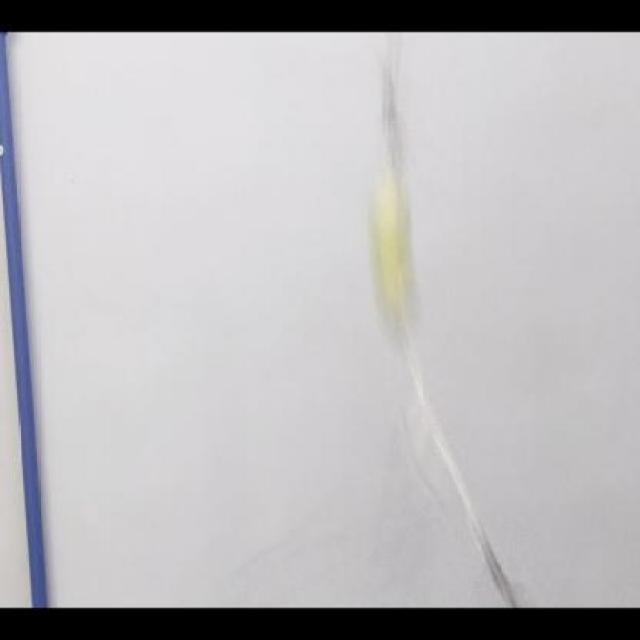baseball: (368, 170, 424, 358)
